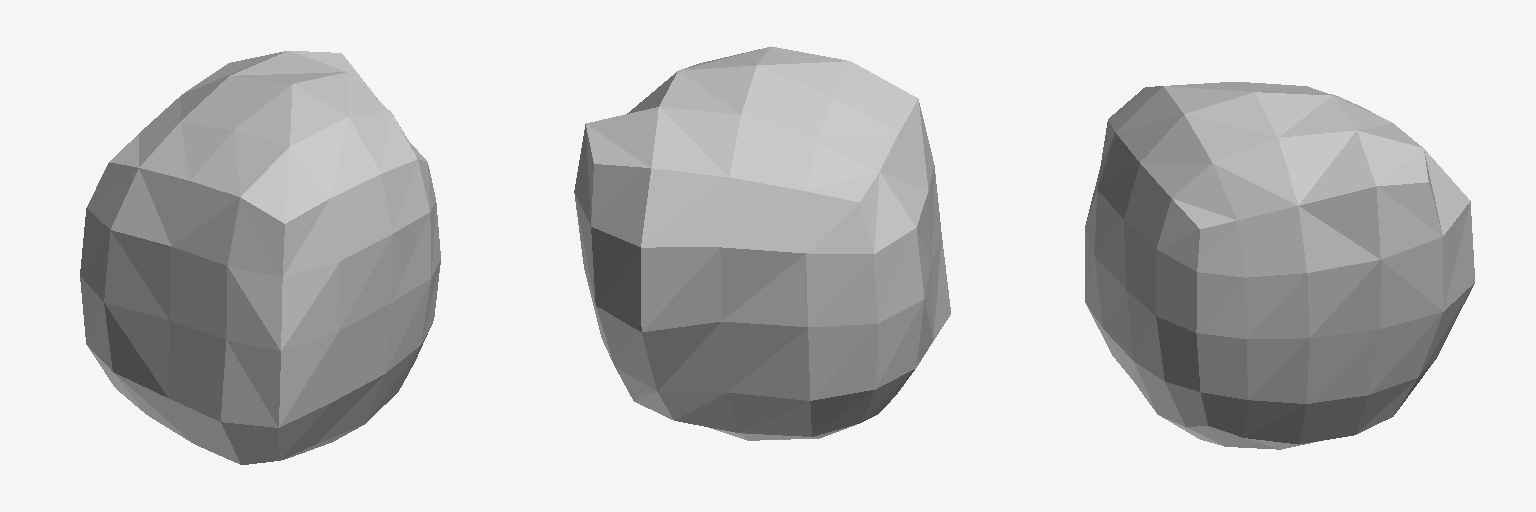
Rendered from PM3D_rock039_003.OBJ.
3 renders of one model, left to right at view 1: azimuth 30°, elevation 25°; view 2: azimuth 150°, elevation 25°; view 3: azimuth 270°, elevation 25°, orthographic.
Visible parts, largest first — view 1: Group40557; view 2: Group40557; view 3: Group40557.
Part boxes in pixels (x1,y1,x2,y2): Group40557: (80, 51, 440, 464); Group40557: (574, 46, 950, 440); Group40557: (1085, 82, 1474, 449).
Bounding box in the file's own units: 1096 × 1192 × 1202.